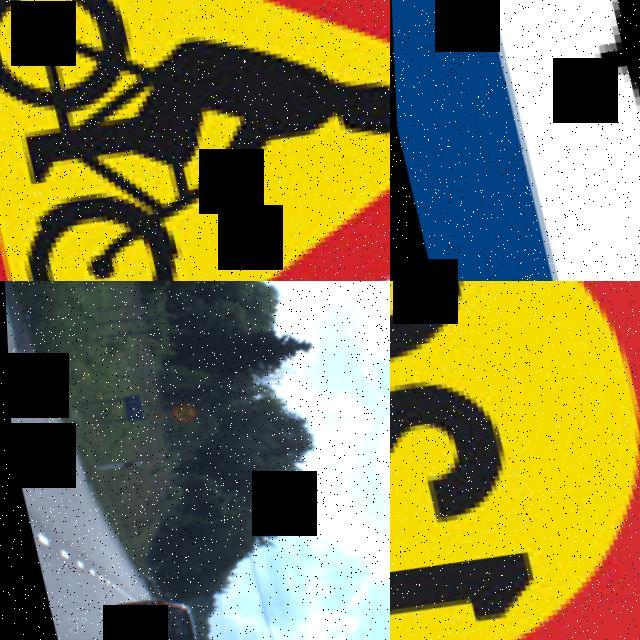172: (116, 390, 144, 425)
55: (390, 281, 640, 640), (164, 398, 198, 423)
57: (138, 402, 169, 431)
Cyclist and mopeds rides on carrigeway: (0, 0, 390, 281)
Hotel: (390, 0, 640, 281)
